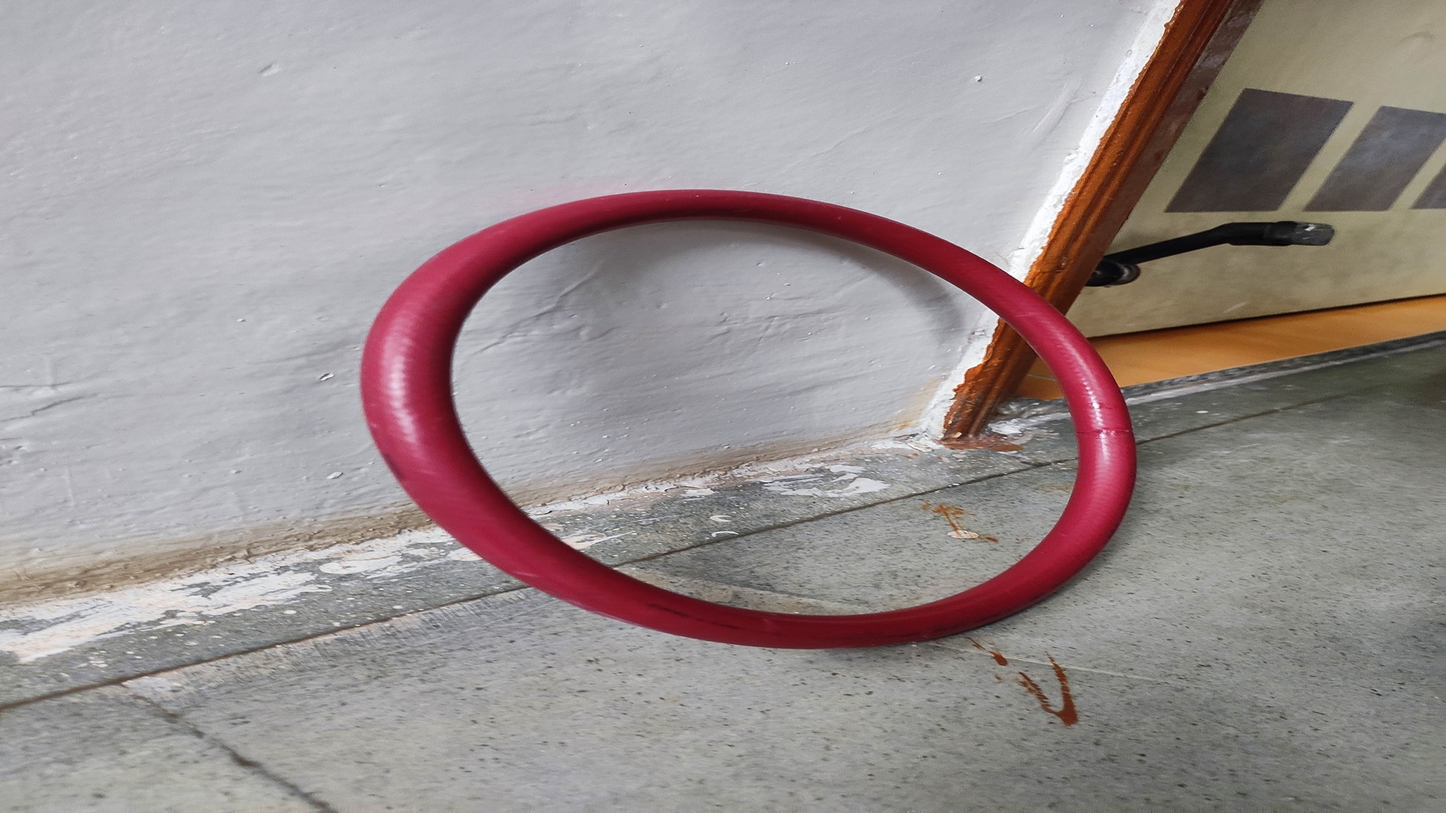Red ring: (371, 192, 1136, 647)
